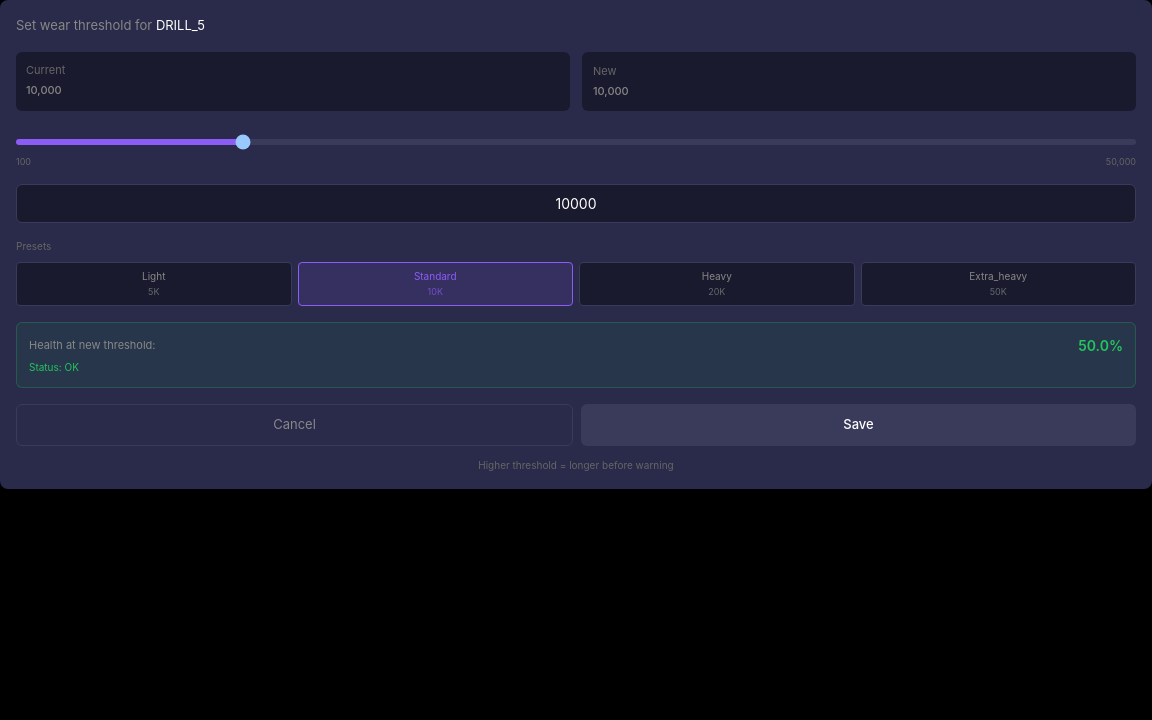
Test: ToolThresholdEditor › Preset buttons › sets LIGHT preset value when clicked
Click the button "Light5K": (154, 284) [16,262,292,306]
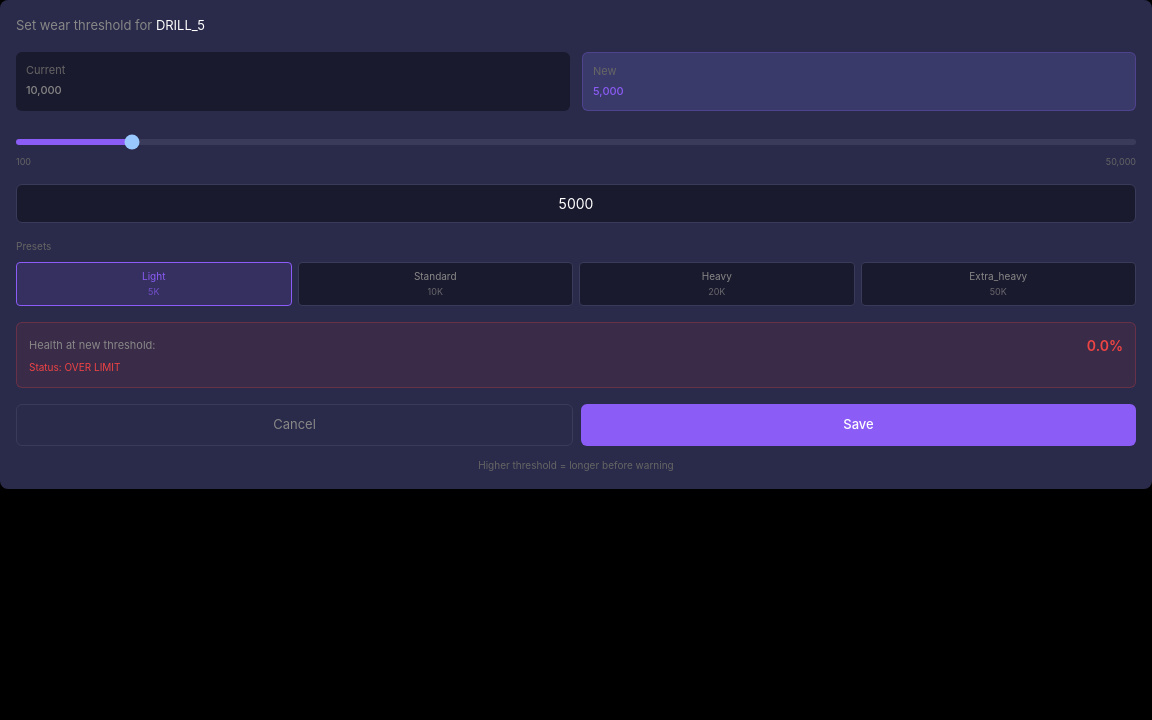
Now the field holds "5000", box [16,184,1136,223]
